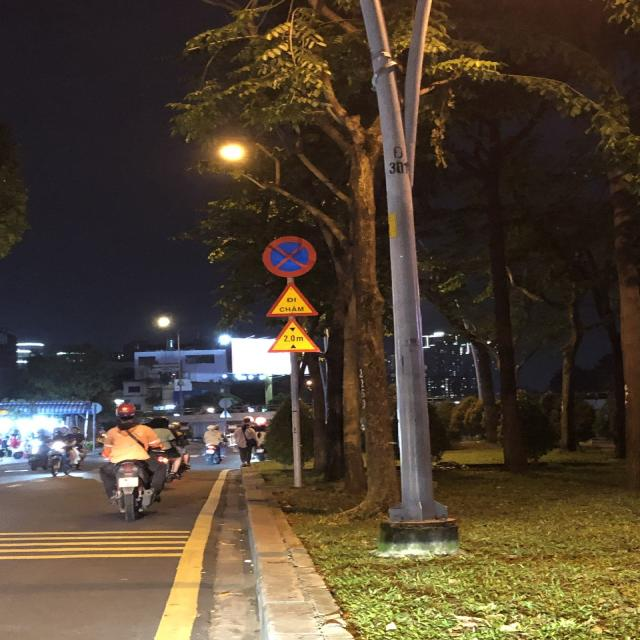Bien bao cam dung xe va do xe: (259, 234, 321, 278)
Bien bao chieu cao tinh khong thuc te: (263, 318, 330, 359)
Bien bao di cham: (259, 281, 327, 319)
